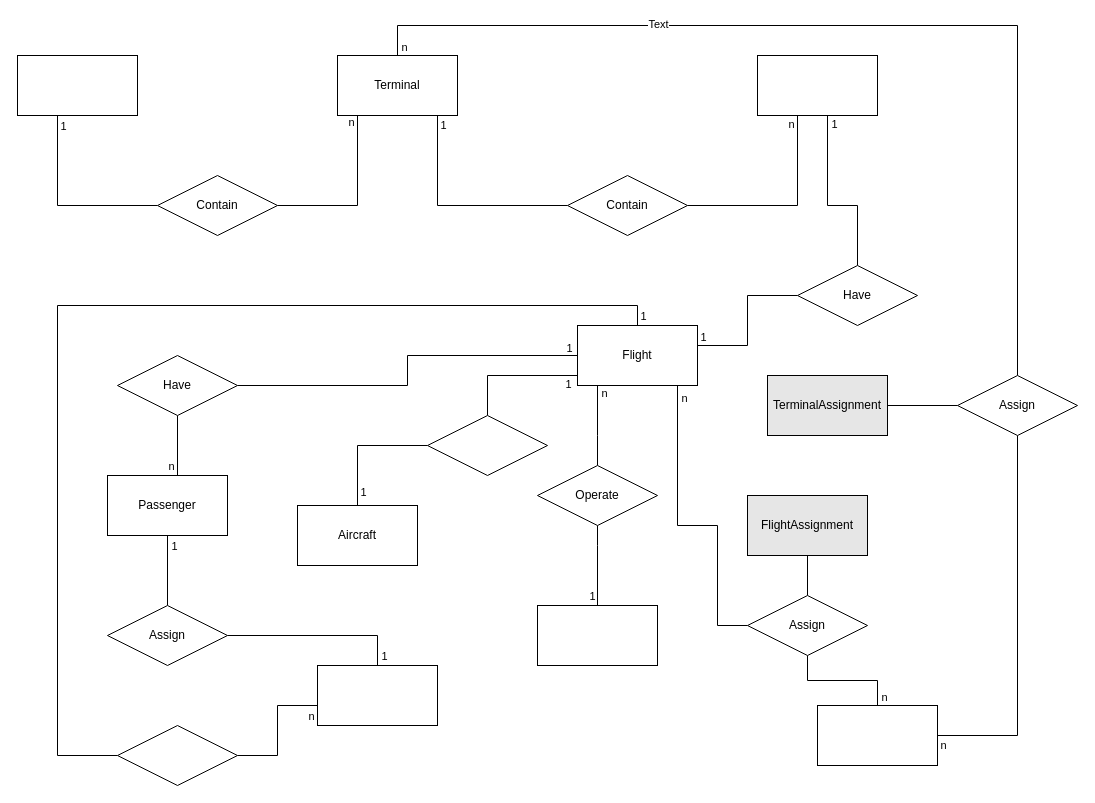
Some shapes in this 1095 by 803 pixel diagram are drawn without their labels. The centre of each missing label's shape, as x and y in pixels:
Airline: point (597, 635)
Airport: point (77, 85)
Associate: point (177, 755)
Gate: point (817, 85)
Staff: point (877, 735)
Ticket: point (377, 695)
Use: point (487, 445)
